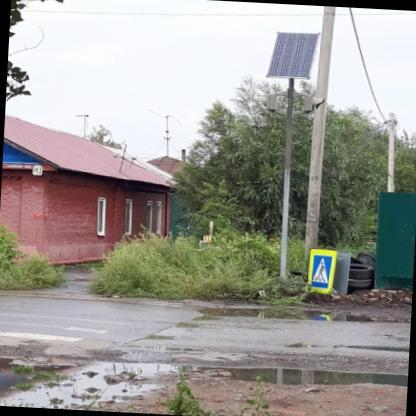road_sign: (309, 249, 337, 294)
